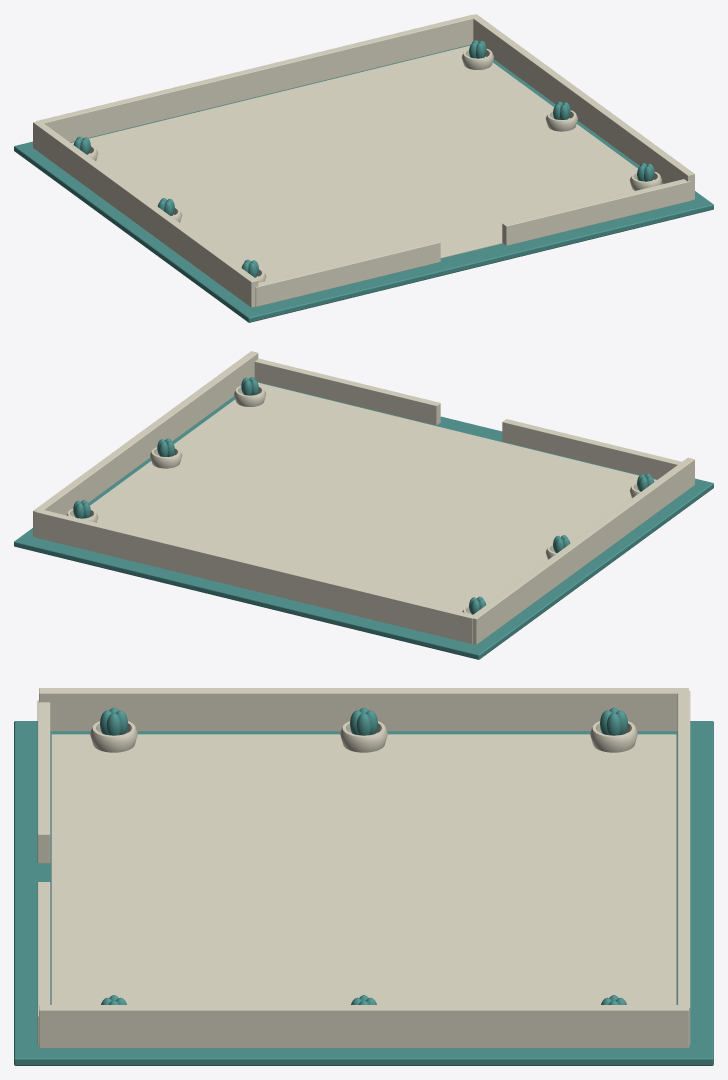
Rendered from water-clock-garden-and-hydraulic-puzzles-hydraulic-gar-dee4da85__31969.glb.
The picture shows the model from 3 angles, top to bottom: view 1: azimuth 30°, elevation 25°; view 2: azimuth 150°, elevation 25°; view 3: azimuth 270°, elevation 25°; orthographic projection. The views are drawn at different scales.
Visible parts, largest first — view 1: hydraulic-garden-landscape-base; view 2: hydraulic-garden-landscape-base; view 3: hydraulic-garden-landscape-base.
Part boxes in pixels (x1=…): hydraulic-garden-landscape-base: x1=14, y1=14, x2=713, y2=322; hydraulic-garden-landscape-base: x1=14, y1=351, x2=713, y2=659; hydraulic-garden-landscape-base: x1=14, y1=688, x2=713, y2=1065.
Bounding box in the file's own units: 16 × 1.07 × 14.
